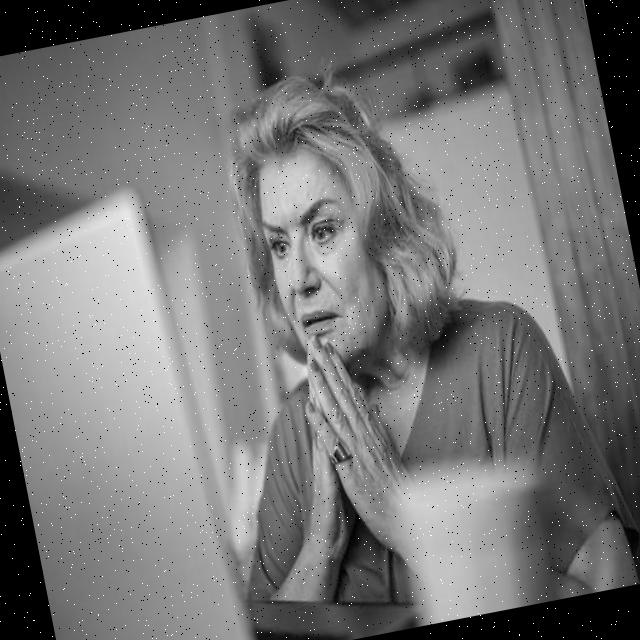Fear: (248, 136, 386, 368)
